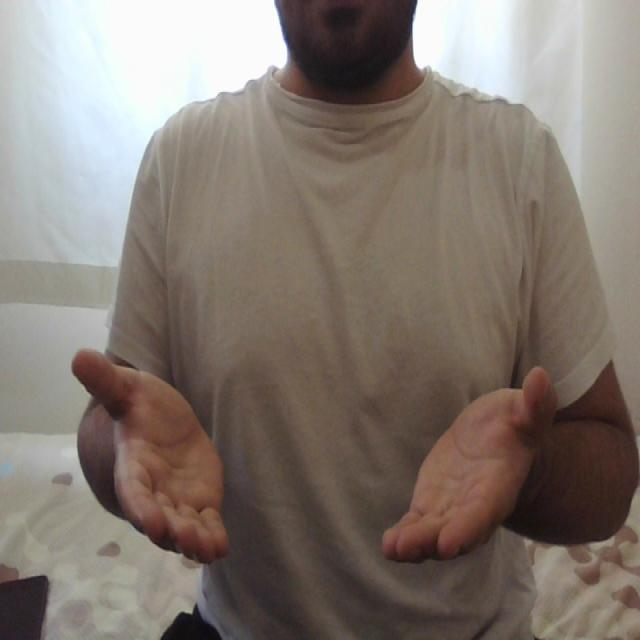Evet: (67, 348, 565, 574)
